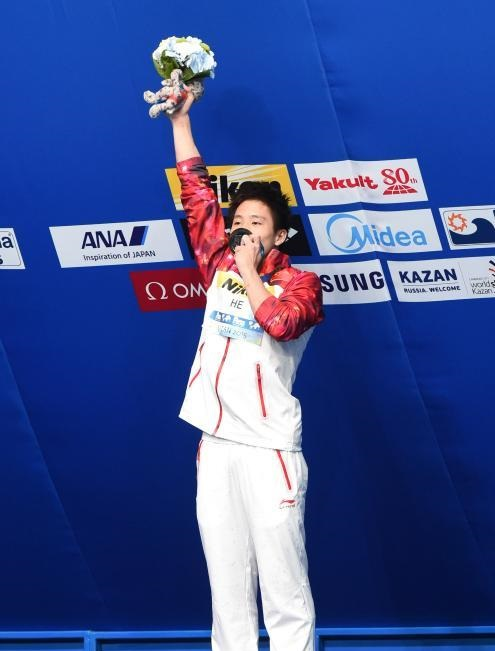face: (229, 199, 273, 267)
